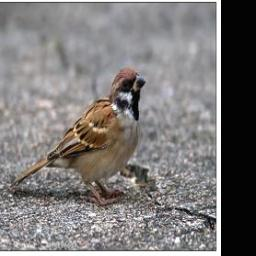Sparrow: (9, 63, 150, 209)
